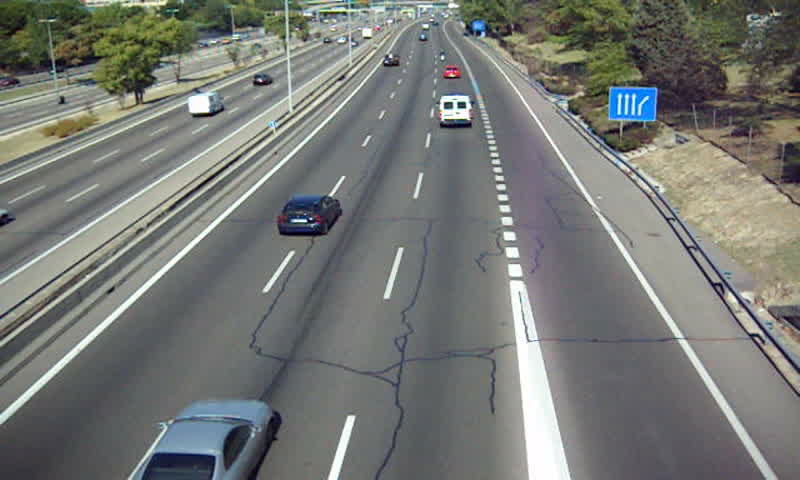car: (137, 400, 275, 480), (278, 194, 340, 234), (442, 67, 462, 82), (381, 54, 400, 69)
van: (438, 95, 473, 127)
